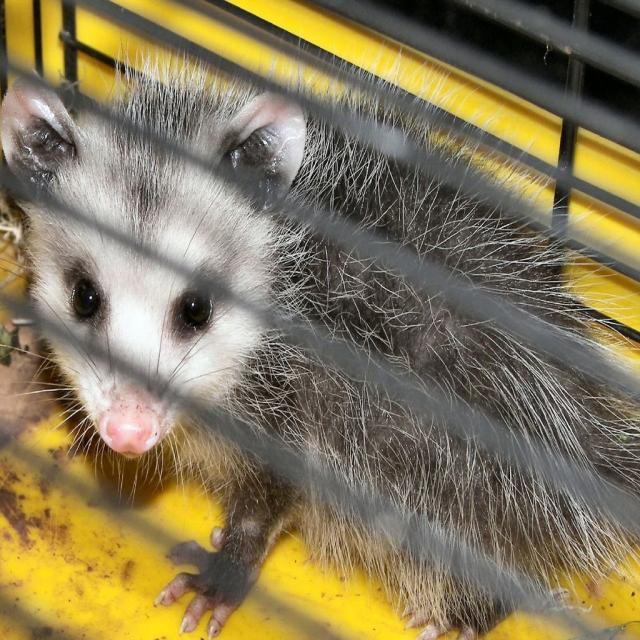rat: (42, 1, 613, 625)
